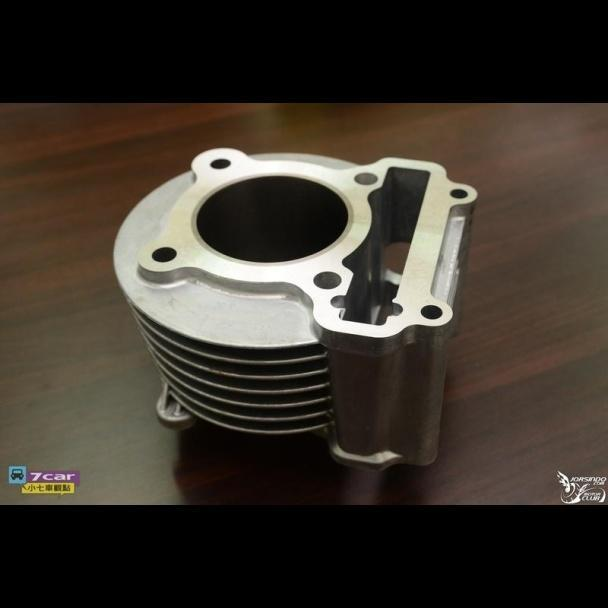hole: (310, 266, 343, 293), (148, 243, 179, 266), (351, 171, 380, 187), (208, 155, 234, 172)
